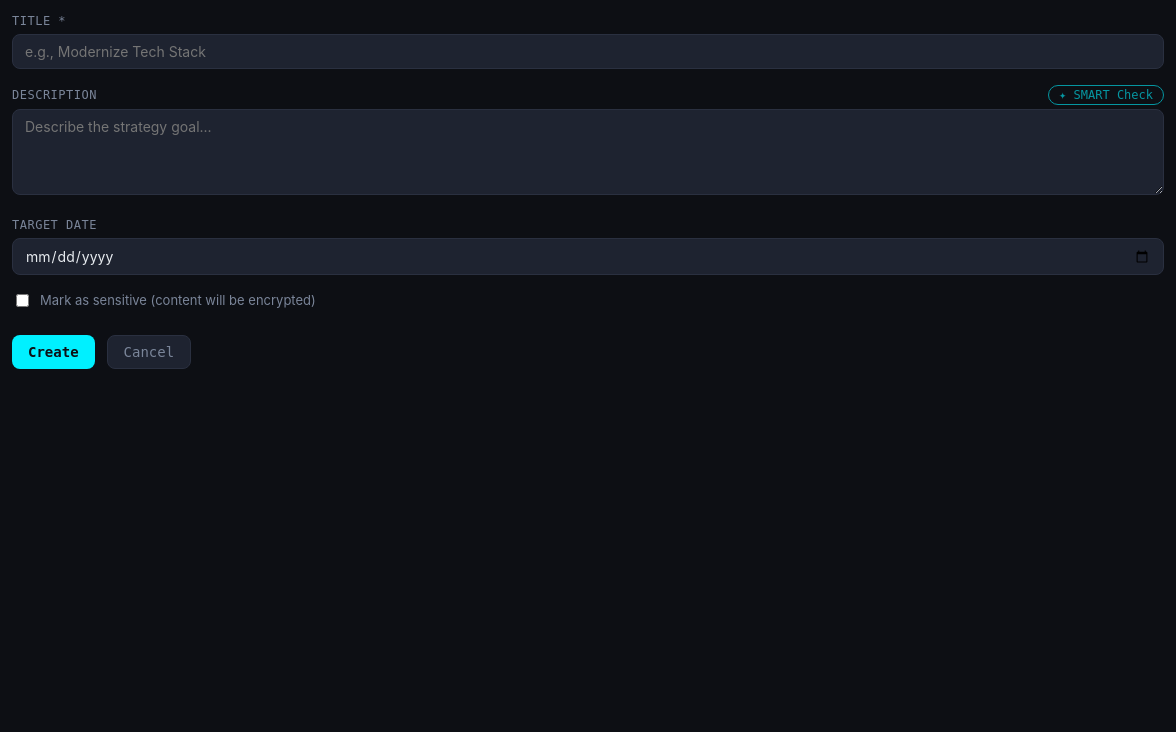
Test: StrategyGoalForm › should dismiss AI suggestion when Keep Original is clicked
The width and height of the screenshot is (1176, 732).
Type "Original Goal" into the field labelled "Title *" at coordinates (588, 52), box [12,34,1164,69]
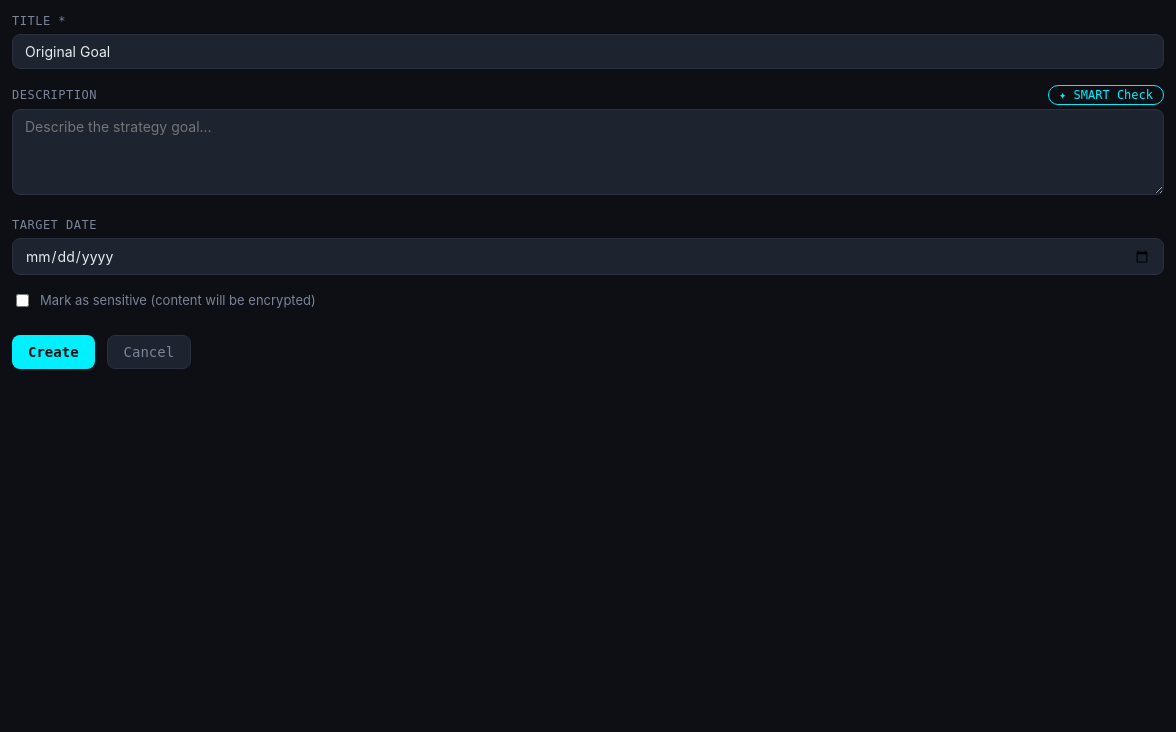
Click the button with test id "strategy-goal-smart-check-btn" at coordinates (1106, 95), box [1048,85,1164,105]
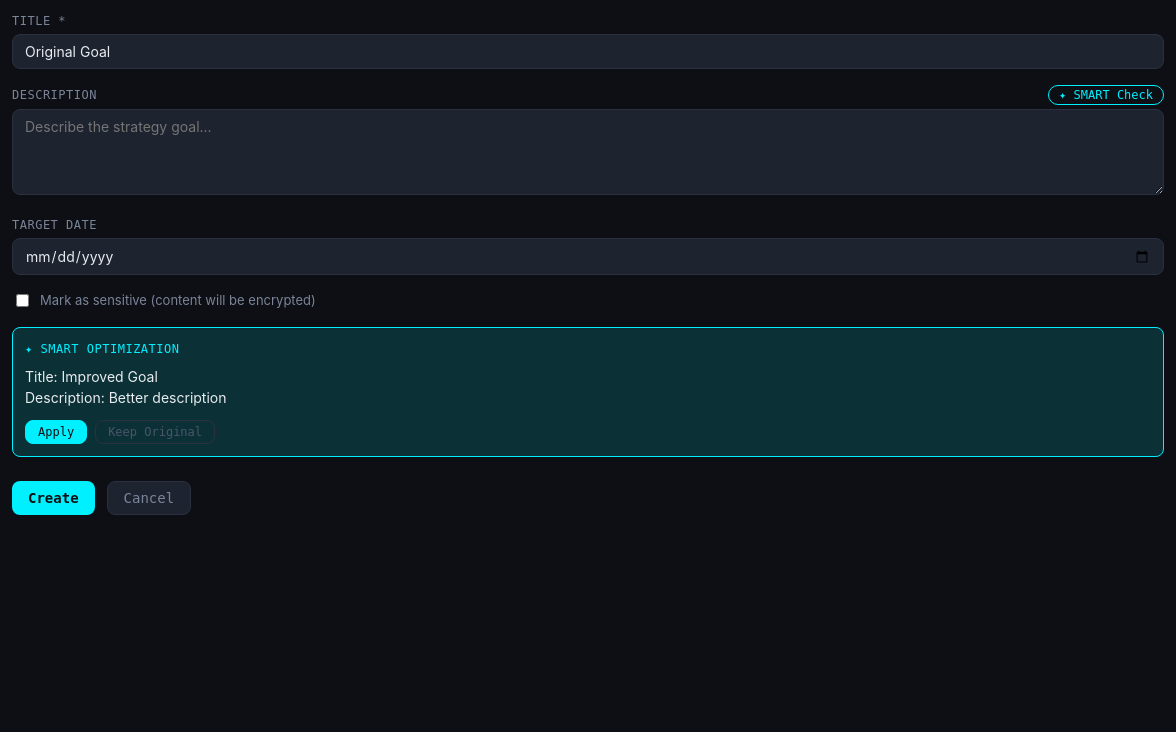
Check: the element with test id "strategy-goal-ai-comparison" is shown, box [12,326,1164,456]
Click the button with test id "strategy-goal-ai-dismiss-btn" at coordinates (155, 432), box [95,420,215,444]
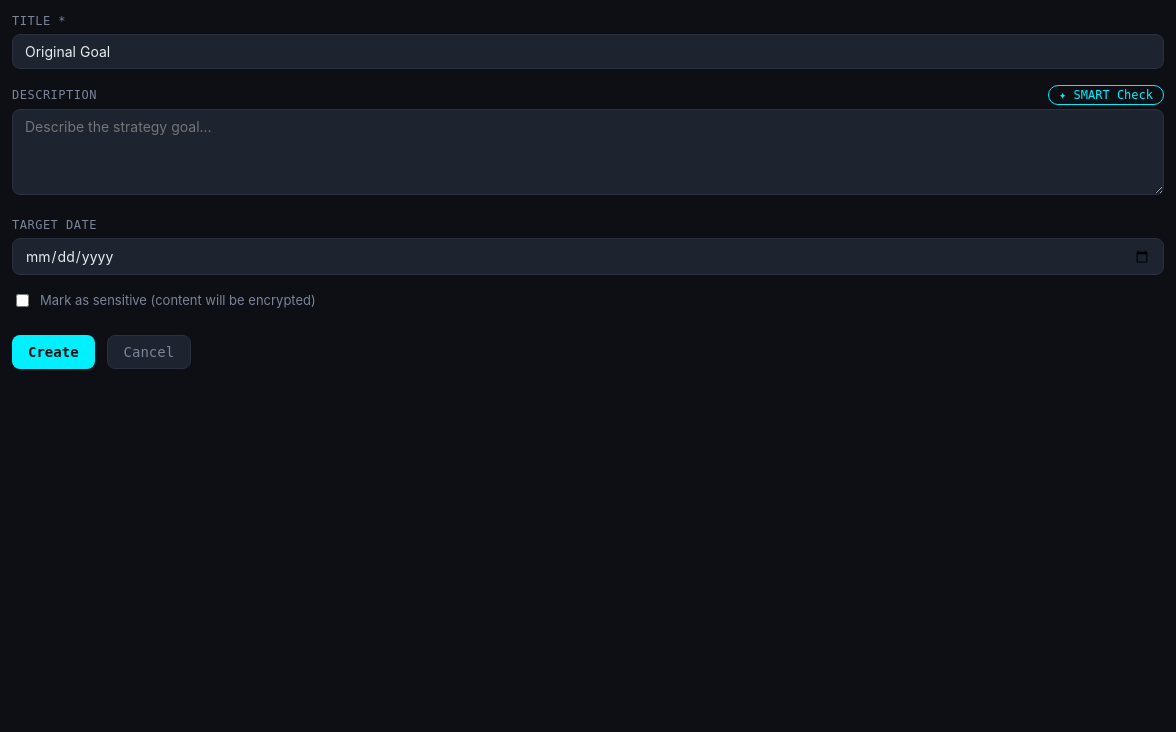
Check: the element with test id "strategy-goal-ai-comparison" is gone
